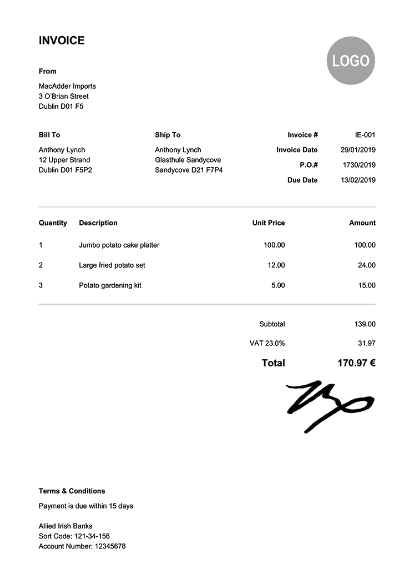Table: (19, 184, 385, 315)
